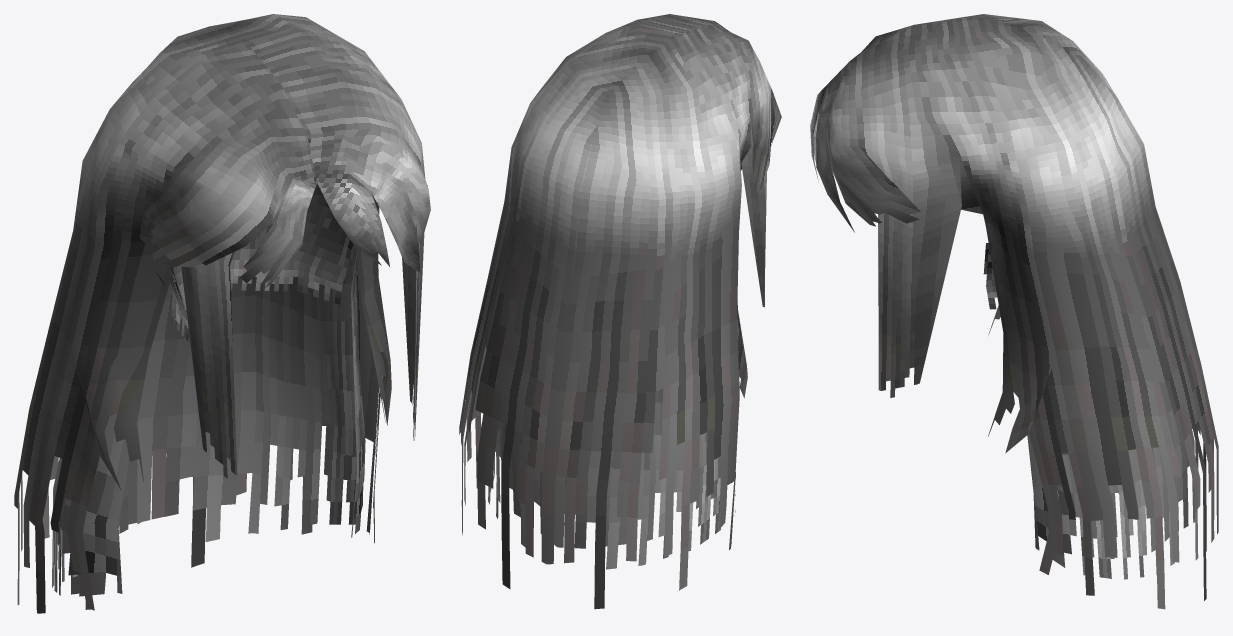
File: f_hair016.obj
3 renders of one model, left to right at view 1: azimuth 30°, elevation 25°; view 2: azimuth 150°, elevation 25°; view 3: azimuth 270°, elevation 25°, orthographic. The views are drawn at different scales.
Parts seen in each view (by area): view 1: editpl_f-0000-1920; view 2: editpl_f-0000-1920; view 3: editpl_f-0000-1920.
Part boxes in pixels (bbox=[...]): editpl_f-0000-1920: bbox=[14, 14, 430, 613]; editpl_f-0000-1920: bbox=[459, 14, 781, 609]; editpl_f-0000-1920: bbox=[810, 14, 1218, 609].
Size of the model in its own units: 26.16 by 49.17 by 32.03.
